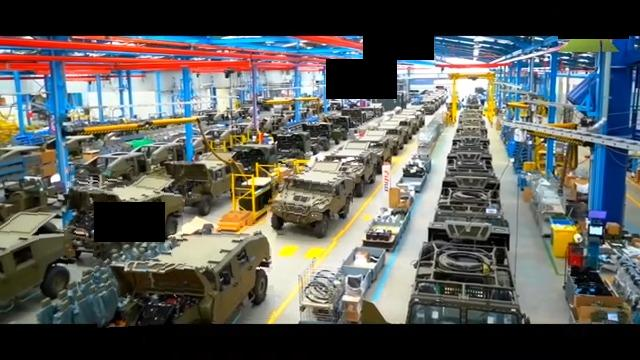MIL_HMMWV: (94, 228, 275, 326), (64, 168, 185, 258), (0, 208, 77, 312), (267, 166, 355, 240)
